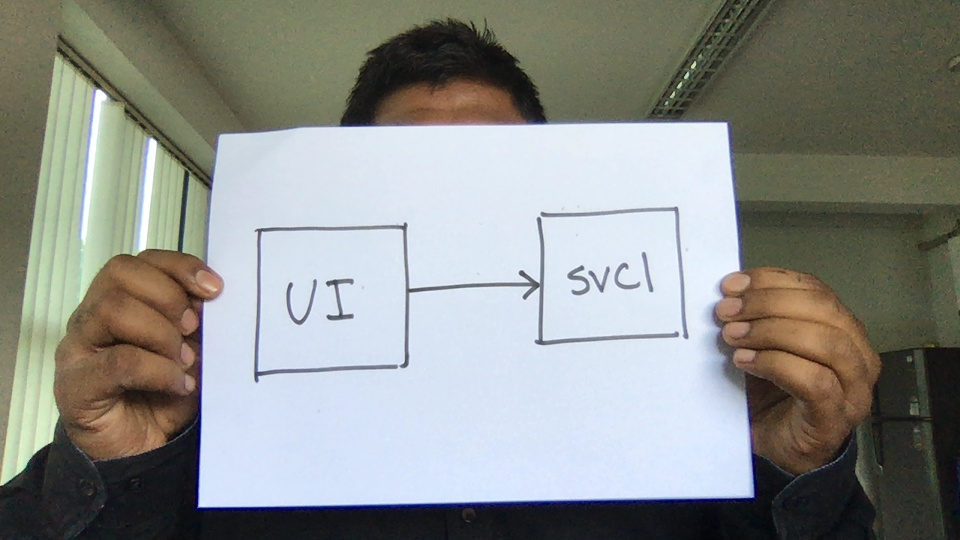ec2: (527, 200, 696, 355)
ui: (246, 217, 420, 381)
